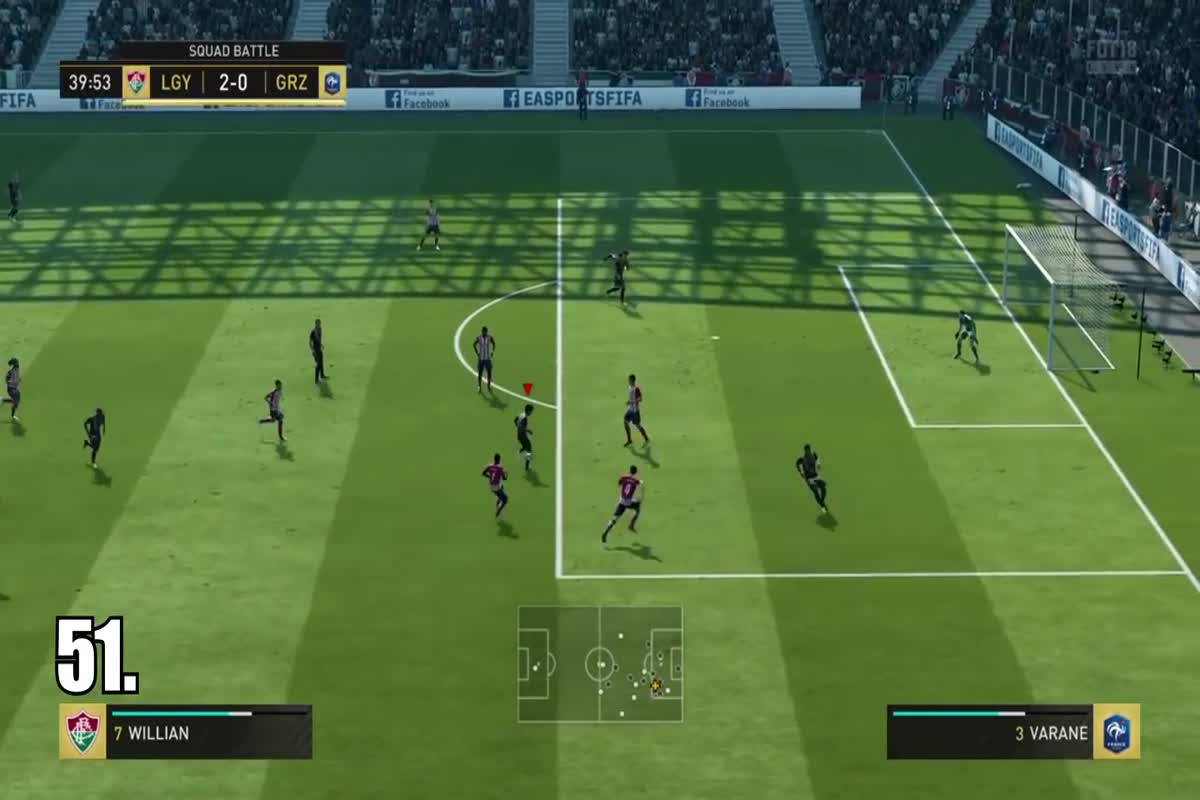ball: (522, 448, 541, 466)
